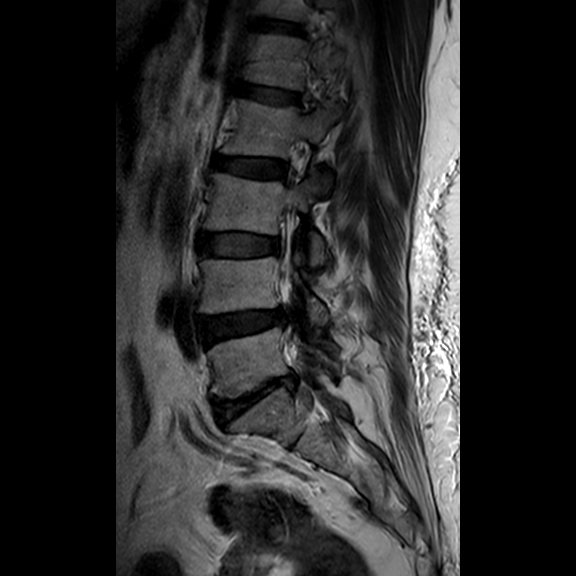RFS0: (273, 129, 318, 194)
